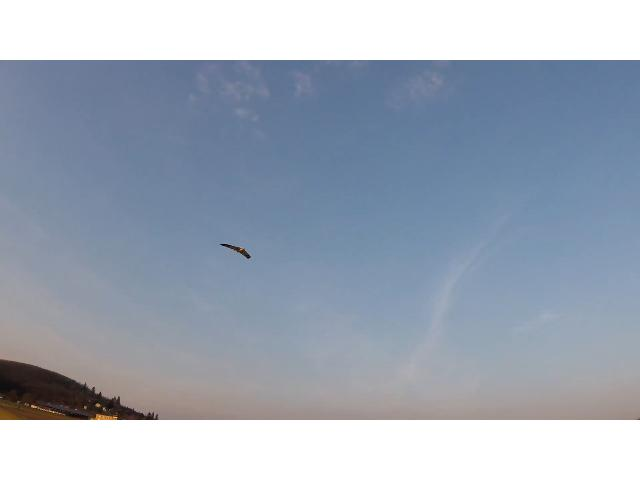Anti-Drone: (220, 242, 250, 258)
